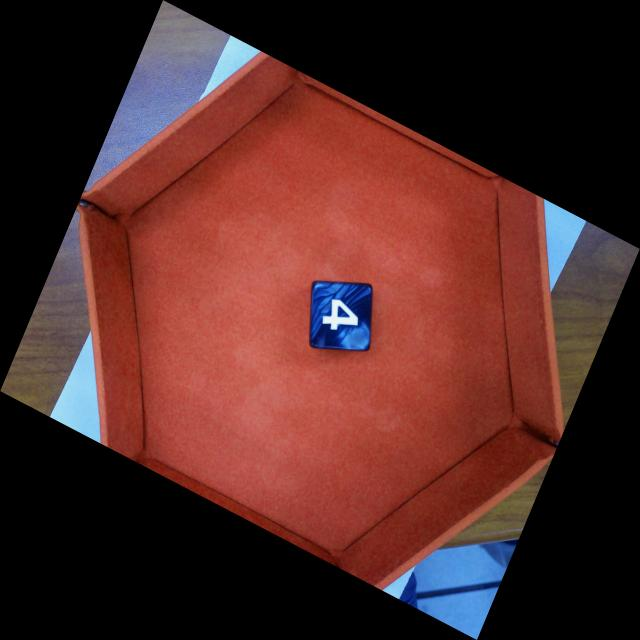dice: (310, 281, 373, 352)
